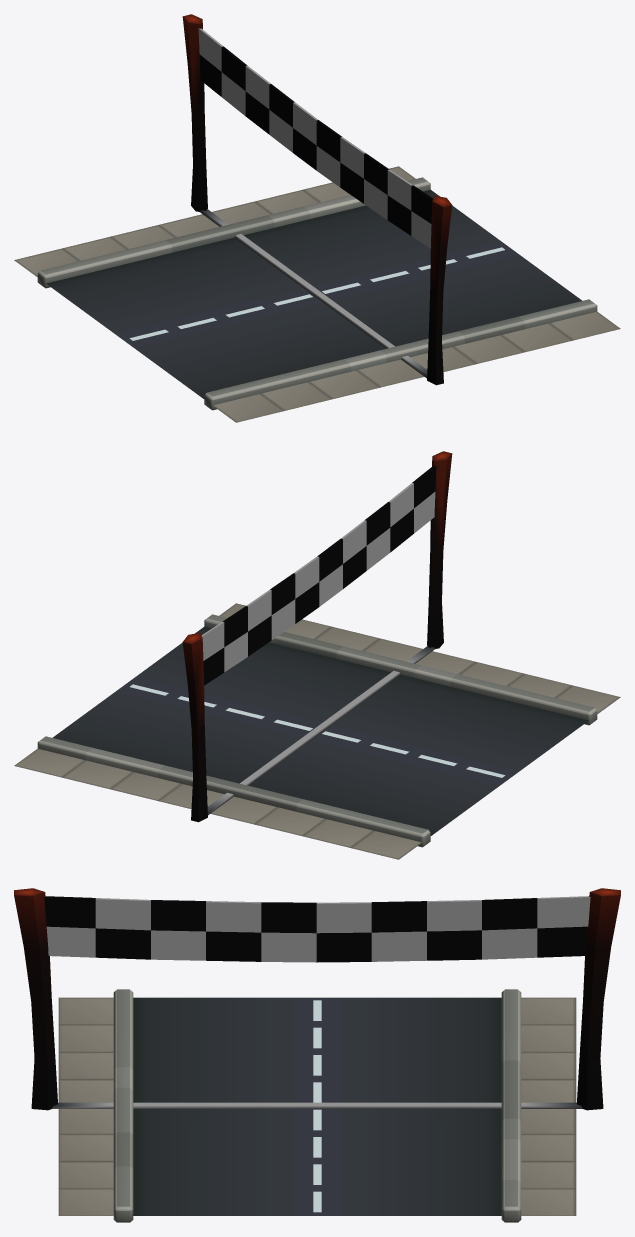
File: finish.glb
3 renders of one model, top to bottom at view 1: azimuth 30°, elevation 25°; view 2: azimuth 150°, elevation 25°; view 3: azimuth 270°, elevation 25°, orthographic. The views are drawn at different scales.
Visible parts, largest first — view 1: road_section_x8.001, GPL_goal_02, road_section_x8_sidewalk, road_section_x8; view 2: road_section_x8.001, GPL_goal_02, road_section_x8_sidewalk, road_section_x8; view 3: road_section_x8.001, GPL_goal_02, road_section_x8_sidewalk, road_section_x8.
Boxes of the visible parts, <box> form: road_section_x8.001: <box>45,189,582,398</box>; GPL_goal_02: <box>182,14,452,385</box>; road_section_x8_sidewalk: <box>14,166,620,422</box>; road_section_x8: <box>37,177,597,410</box>; road_section_x8.001: <box>52,626,589,835</box>; GPL_goal_02: <box>182,451,452,822</box>; road_section_x8_sidewalk: <box>14,603,620,859</box>; road_section_x8: <box>37,614,597,847</box>; road_section_x8.001: <box>132,997,502,1215</box>; GPL_goal_02: <box>14,888,620,1110</box>; road_section_x8_sidewalk: <box>58,997,576,1215</box>; road_section_x8: <box>113,989,521,1222</box>.
Bounding box in the file's own units: 16.1 × 7.58 × 18.77.
Materials: 4 (4 with a texture image).
